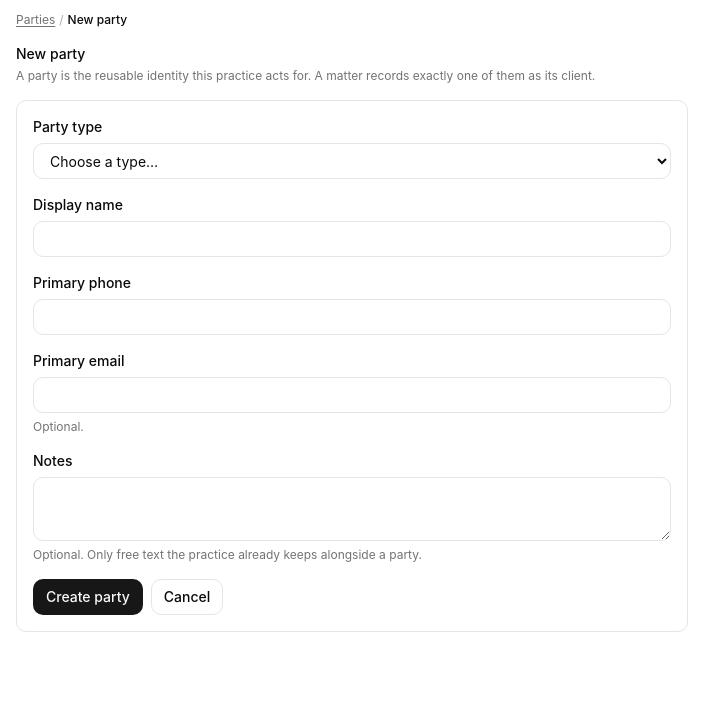
Test case: PartyCreatePage › blocks submission and explains what is missing
Click the button "Create party" at (88, 597), box [33,579,143,615]
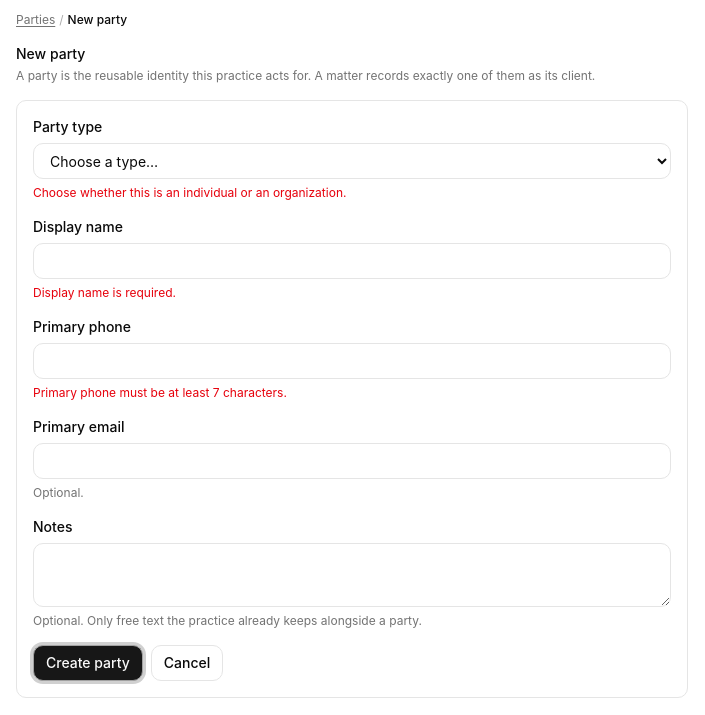
expect the text "Choose whether this is an individual or an organization." is shown: met, box [33,185,346,200]
expect the text "Display name is required." is shown: met, box [33,285,176,300]
expect the text "Primary phone must be at least 7 characters." is shown: met, box [33,385,287,400]
